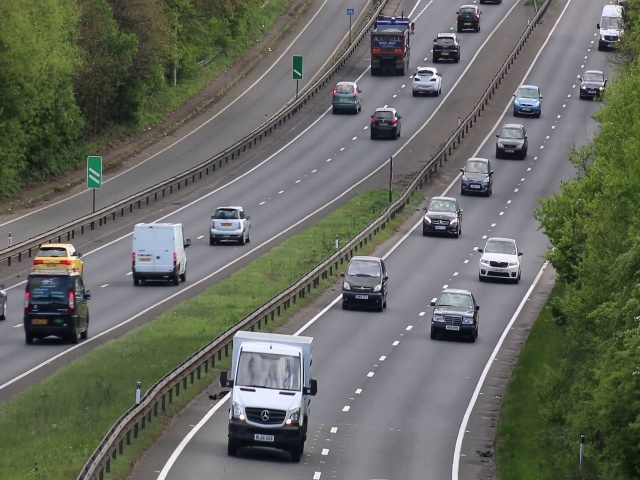car: (228, 330, 311, 462), (24, 272, 90, 345), (129, 219, 189, 285), (430, 290, 479, 344), (342, 255, 388, 312), (369, 17, 409, 75), (477, 235, 521, 284), (33, 244, 85, 284), (208, 203, 252, 246), (420, 196, 462, 239), (459, 158, 492, 197), (596, 3, 622, 52), (496, 121, 527, 160), (332, 78, 363, 114), (371, 107, 402, 140), (513, 85, 540, 121), (413, 65, 443, 97), (430, 33, 463, 60), (580, 66, 604, 101), (456, 6, 481, 34)
